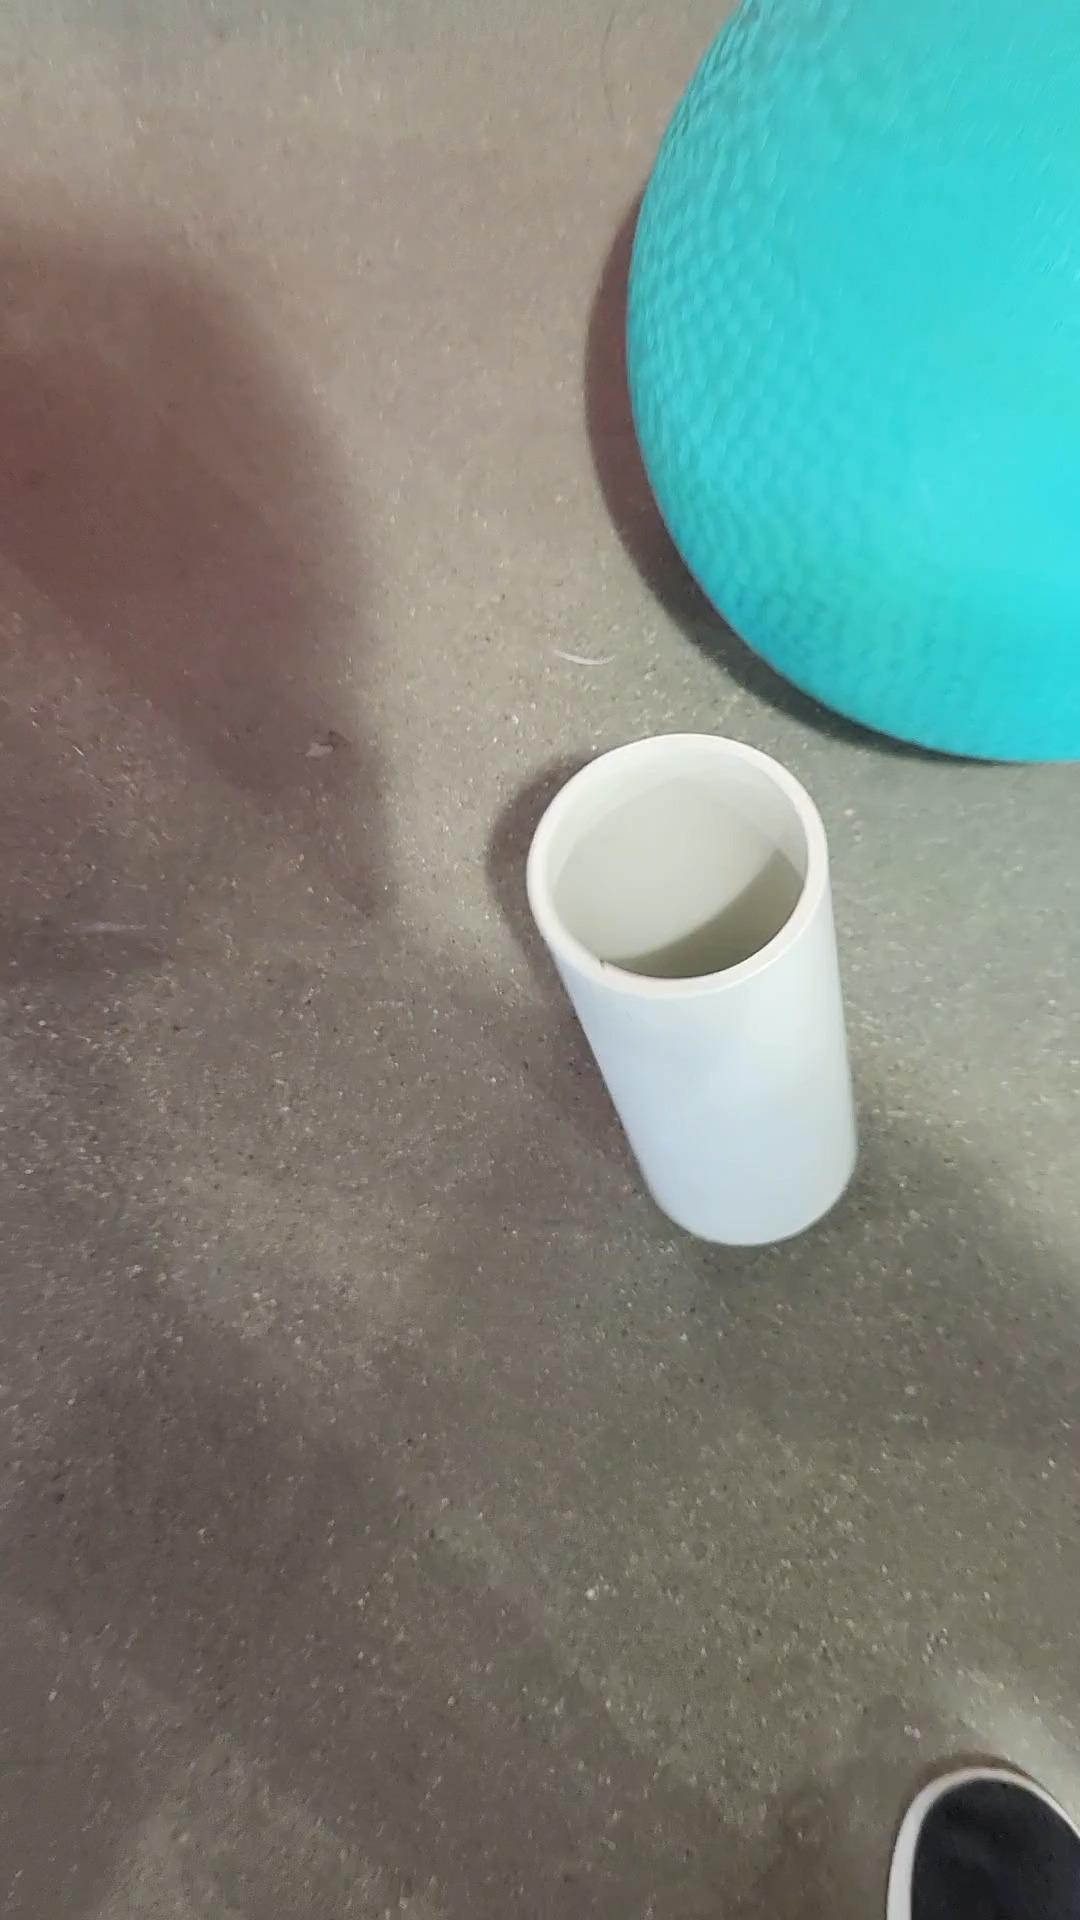algae: (531, 0, 1080, 760)
coral: (446, 716, 898, 1257)
